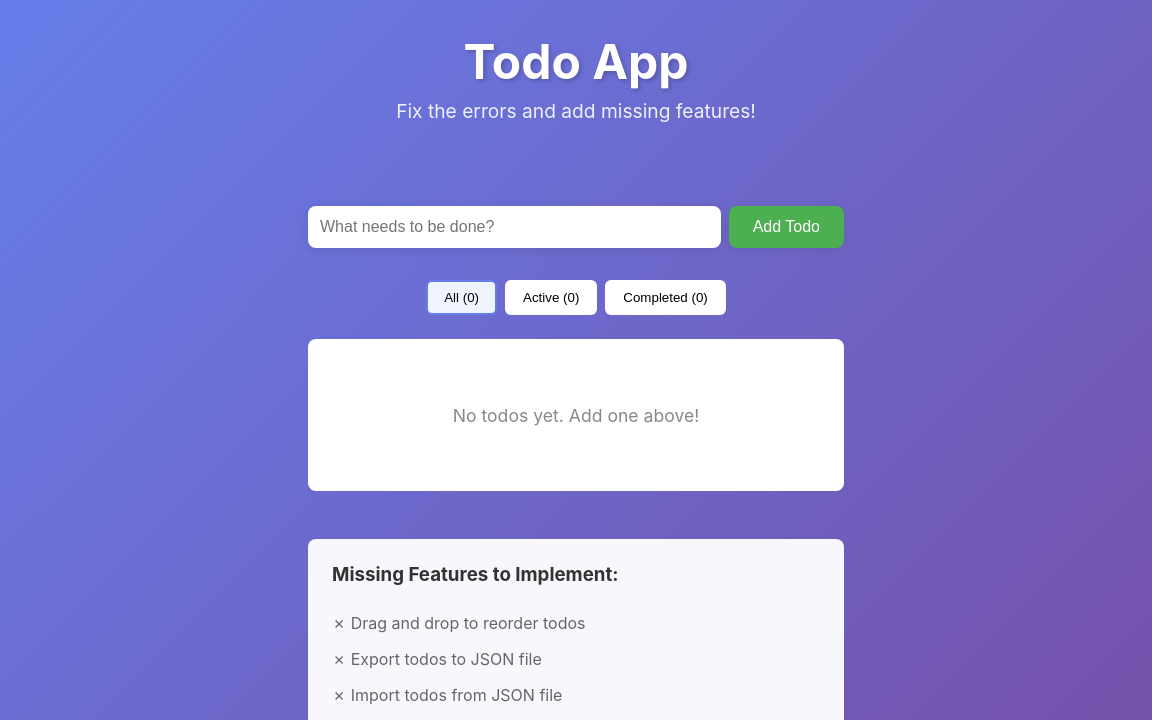
Todo App › should filter todos by status
The width and height of the screenshot is (1152, 720).
Type "Completed todo" into the field with placeholder "What needs to be done?" at (514, 227), box [308,206,721,248]
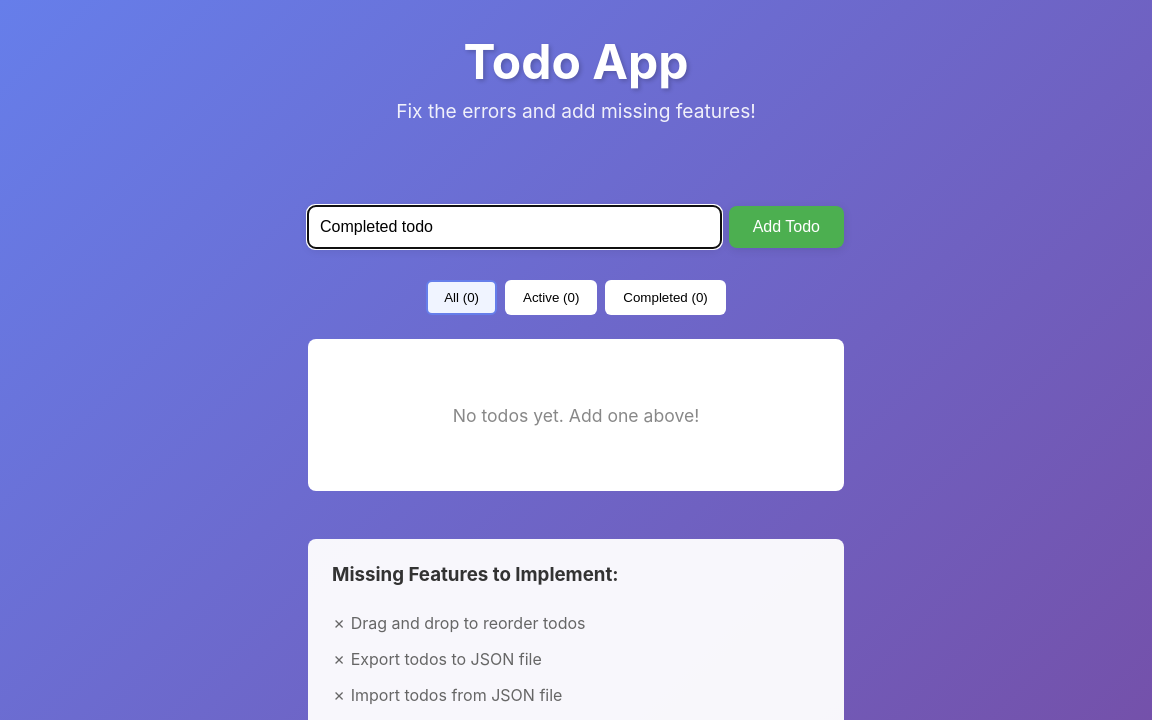
Click the button "Add Todo" at (786, 227), box [729,206,844,248]
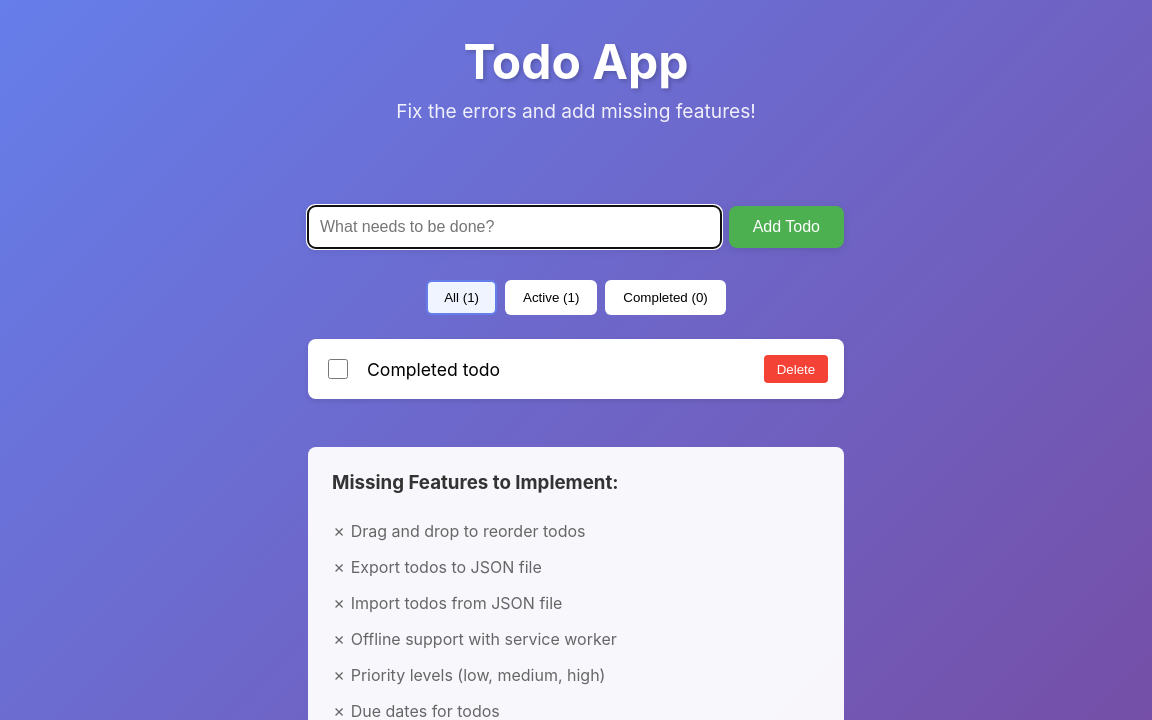
Click the checkbox at (338, 369), box [328,359,348,379]
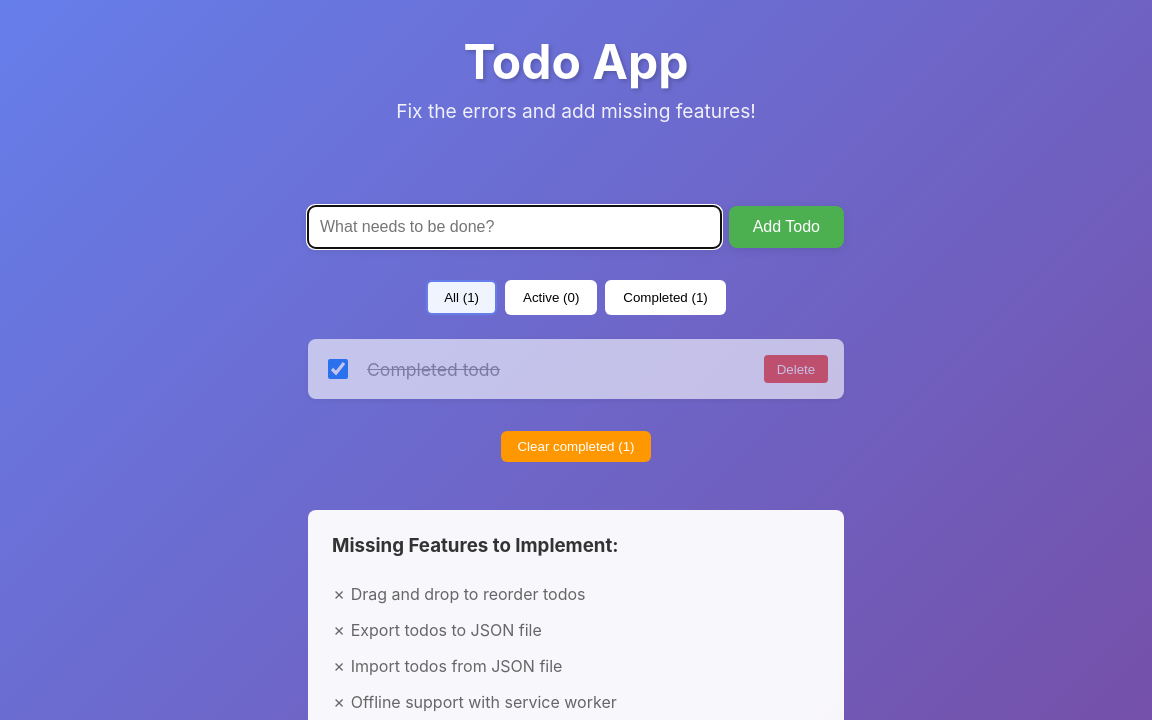
Type "Active todo" into the field with placeholder "What needs to be done?" at (514, 227), box [308,206,721,248]
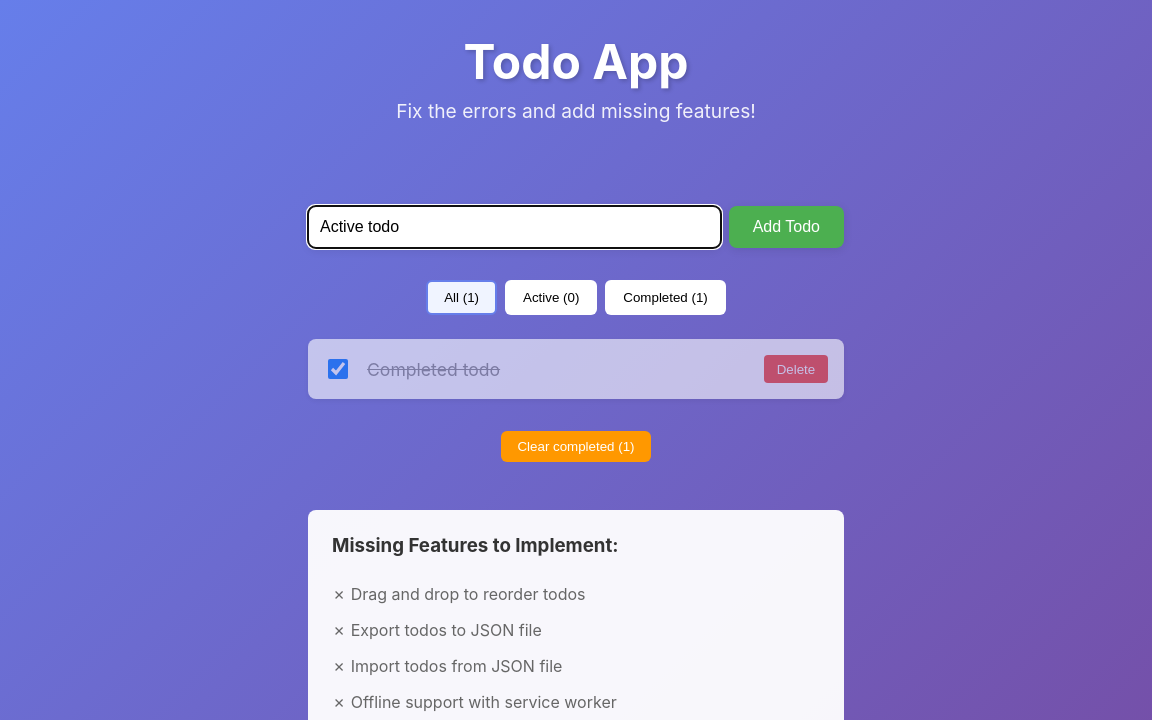
Click the button "Add Todo" at (786, 227), box [729,206,844,248]
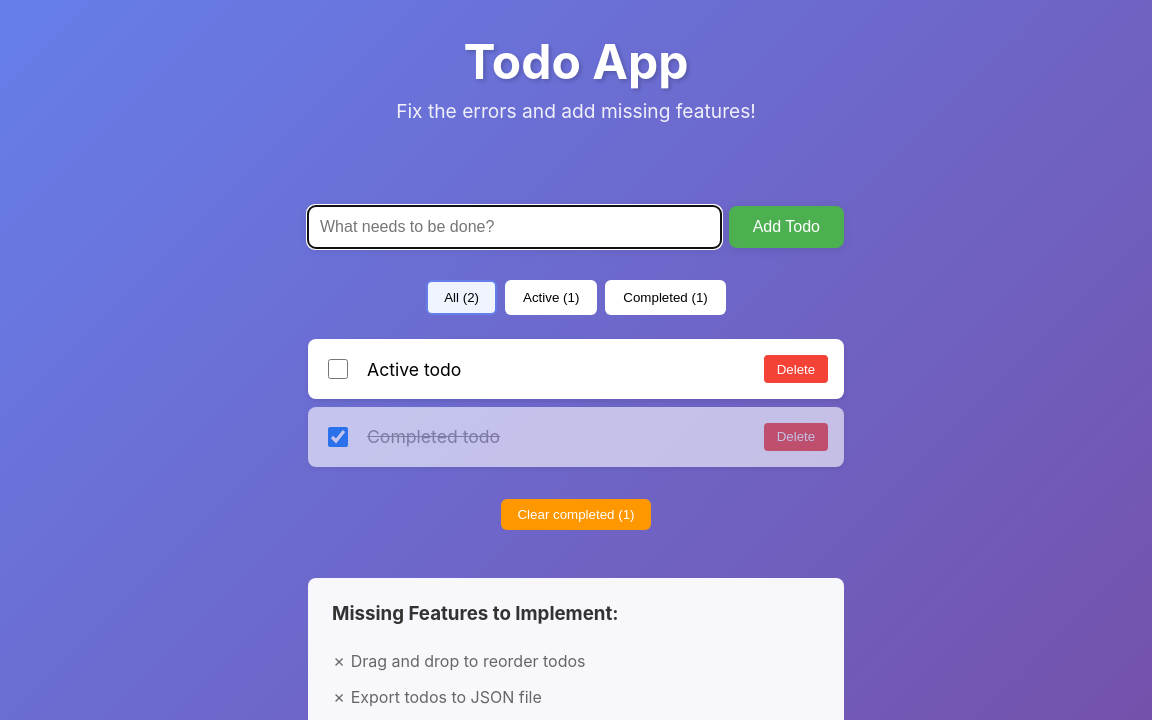
// Test completed filter
Click the button "Completed (1)" at (666, 298), box [605,280,726,315]
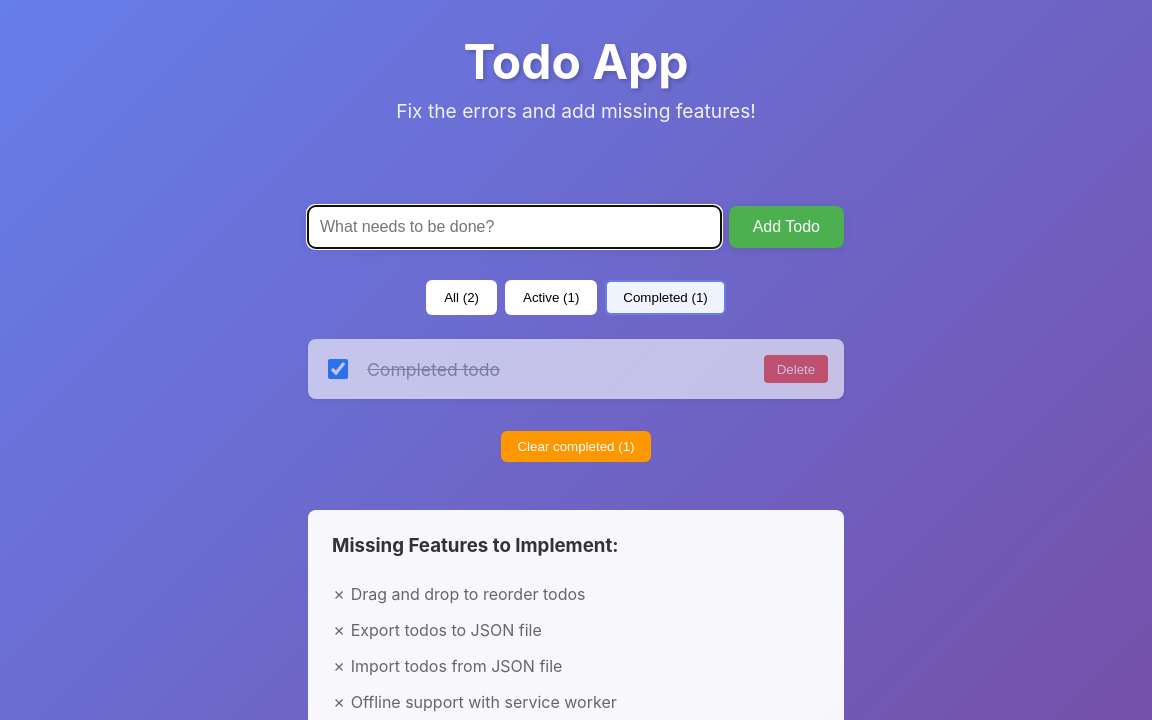
Now the text "Completed todo" is shown, box [367,359,500,380]
Now the text "Active todo" is gone
